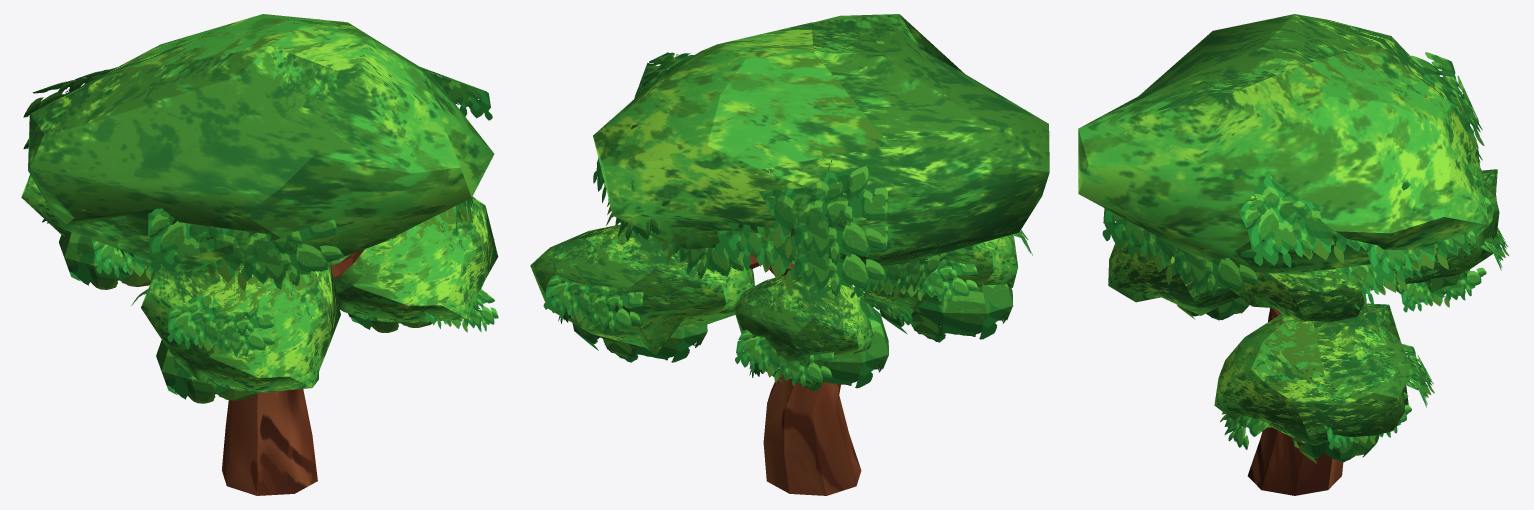
Rendered from Tree_large.fbx.
3 views of the same model, side by side, from view 1: azimuth 30°, elevation 25°; view 2: azimuth 150°, elevation 25°; view 3: azimuth 270°, elevation 25° (orthographic). The views are drawn at different scales.
Visible parts, largest first — view 1: Large_tree_geo; view 2: Large_tree_geo; view 3: Large_tree_geo.
Boxes of the visible parts, bbox=[...] form: Large_tree_geo: bbox=[21, 14, 498, 495]; Large_tree_geo: bbox=[530, 14, 1049, 495]; Large_tree_geo: bbox=[1078, 14, 1508, 495].
Bounding box in the file's own units: 17.97 × 15.35 × 15.03.
